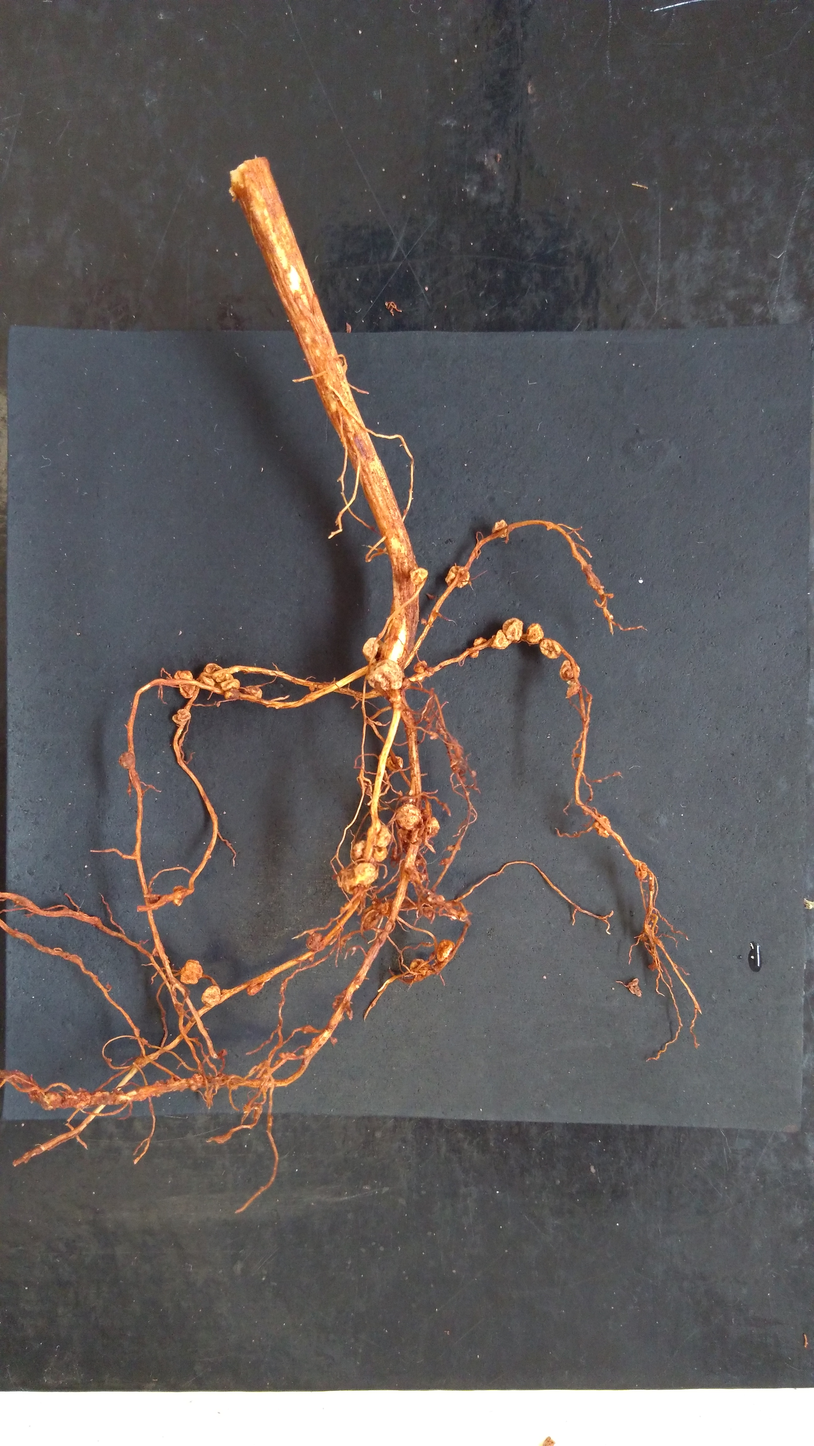nodule: (365, 658, 405, 691), (196, 661, 225, 696), (394, 803, 422, 833), (177, 958, 205, 987), (443, 564, 470, 591), (173, 669, 195, 700), (353, 861, 379, 887), (501, 616, 524, 643), (199, 984, 224, 1007), (361, 636, 383, 662), (591, 812, 612, 838), (558, 658, 580, 681), (491, 629, 515, 650), (538, 639, 562, 660), (435, 938, 455, 963), (375, 823, 393, 848), (409, 957, 430, 978), (526, 621, 545, 644), (348, 840, 370, 859), (407, 566, 430, 584), (170, 884, 186, 908), (172, 708, 192, 726), (370, 845, 390, 863), (385, 754, 405, 770), (634, 858, 648, 880), (243, 684, 263, 699), (219, 678, 240, 691), (247, 982, 265, 997), (424, 816, 442, 831), (412, 660, 430, 674), (199, 671, 217, 685), (223, 689, 241, 700), (214, 674, 235, 682), (473, 636, 488, 647), (468, 650, 480, 658)
